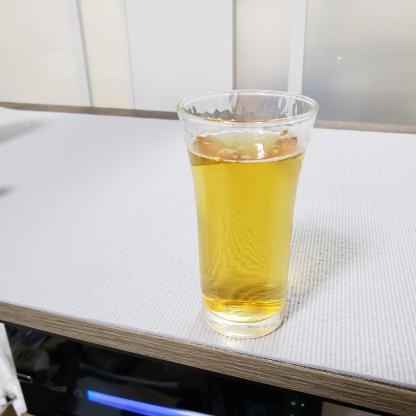glass: (167, 81, 327, 345)
